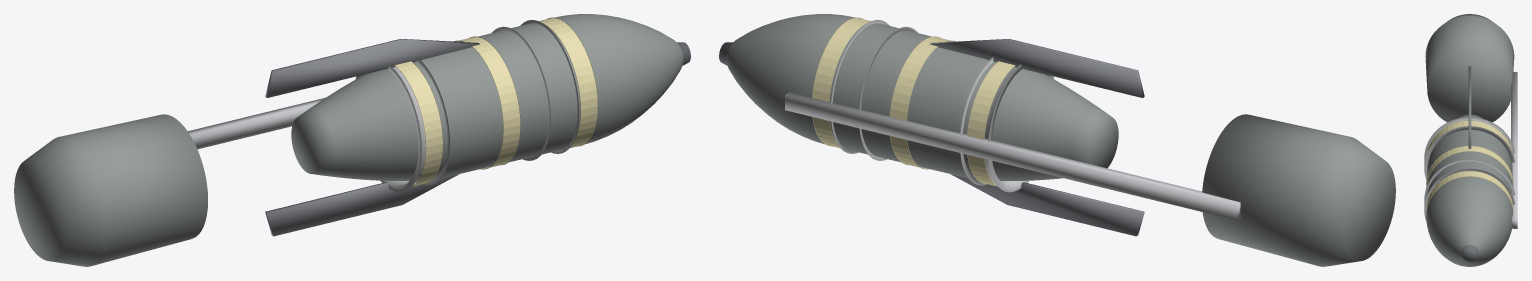
File: FR_SLBM_M45_LOD0.fbx
The picture shows the model from 3 angles, left to right: view 1: azimuth 30°, elevation 25°; view 2: azimuth 150°, elevation 25°; view 3: azimuth 270°, elevation 25°; orthographic projection. The views are drawn at different scales.
Parts seen in each view (by area): view 1: WPN_FR_SLBM_M45_LOD0_Body, WPN_FR_SLBM_M45_LOD0_Tail, WPN_FR_SLBM_M45_LOD0_Detail, WPN_FR_SLBM_M45_LOD0_Marking; view 2: WPN_FR_SLBM_M45_LOD0_Body, WPN_FR_SLBM_M45_LOD0_Tail, WPN_FR_SLBM_M45_LOD0_Detail, WPN_FR_SLBM_M45_LOD0_Marking; view 3: WPN_FR_SLBM_M45_LOD0_Body, WPN_FR_SLBM_M45_LOD0_Tail, WPN_FR_SLBM_M45_LOD0_Detail, WPN_FR_SLBM_M45_LOD0_Marking, WPN_FR_SLBM_M45_LOD0_Nose.
Boxes of the visible parts, bbox=[...] form: WPN_FR_SLBM_M45_LOD0_Body: bbox=[291, 14, 683, 180]; WPN_FR_SLBM_M45_LOD0_Tail: bbox=[14, 114, 207, 266]; WPN_FR_SLBM_M45_LOD0_Detail: bbox=[188, 20, 579, 236]; WPN_FR_SLBM_M45_LOD0_Marking: bbox=[394, 17, 597, 186]; WPN_FR_SLBM_M45_LOD0_Body: bbox=[726, 14, 1118, 180]; WPN_FR_SLBM_M45_LOD0_Tail: bbox=[1202, 114, 1395, 266]; WPN_FR_SLBM_M45_LOD0_Detail: bbox=[785, 20, 1240, 236]; WPN_FR_SLBM_M45_LOD0_Marking: bbox=[812, 17, 1015, 186]; WPN_FR_SLBM_M45_LOD0_Body: bbox=[1426, 114, 1512, 266]; WPN_FR_SLBM_M45_LOD0_Tail: bbox=[1425, 14, 1514, 122]; WPN_FR_SLBM_M45_LOD0_Detail: bbox=[1424, 66, 1517, 228]; WPN_FR_SLBM_M45_LOD0_Marking: bbox=[1426, 120, 1513, 223]; WPN_FR_SLBM_M45_LOD0_Nose: bbox=[1461, 244, 1478, 261].
Size of the model in its own units: 11 by 2.07 by 2.68.
